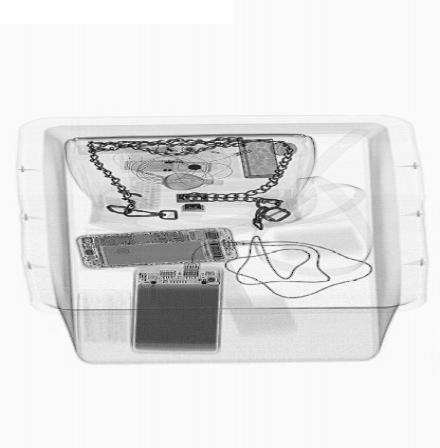Lighter: (135, 156, 193, 164)
